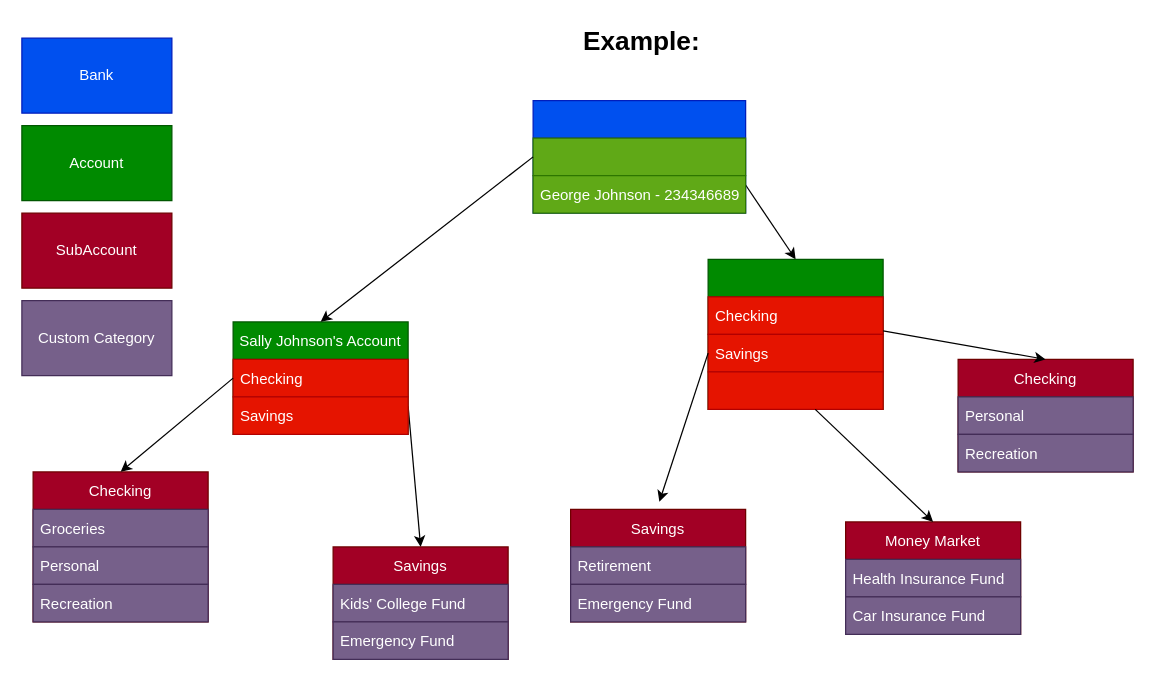
Some shapes in this 1155 by 681 pixel diagram are drawn without their labels. Each missing label, with the box of its shape:
Bank of America: (532, 99, 746, 213)
George Johnson's Account: (707, 258, 883, 409)
MoneyMarket: (707, 371, 883, 409)
Sally Johnson - 234345789: (532, 137, 746, 176)
